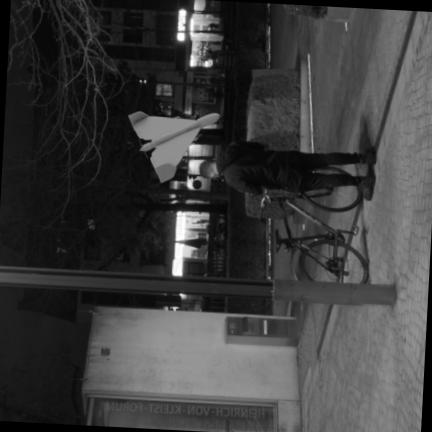Shahed: (129, 111, 219, 181)
